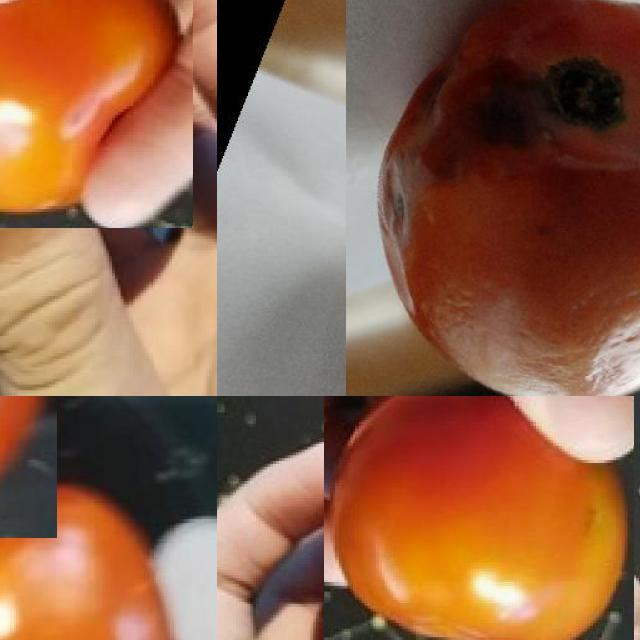Fresh Tomato: (323, 396, 634, 640), (0, 0, 192, 227), (0, 473, 180, 640)
Rotten Tomato: (345, 0, 640, 396)
